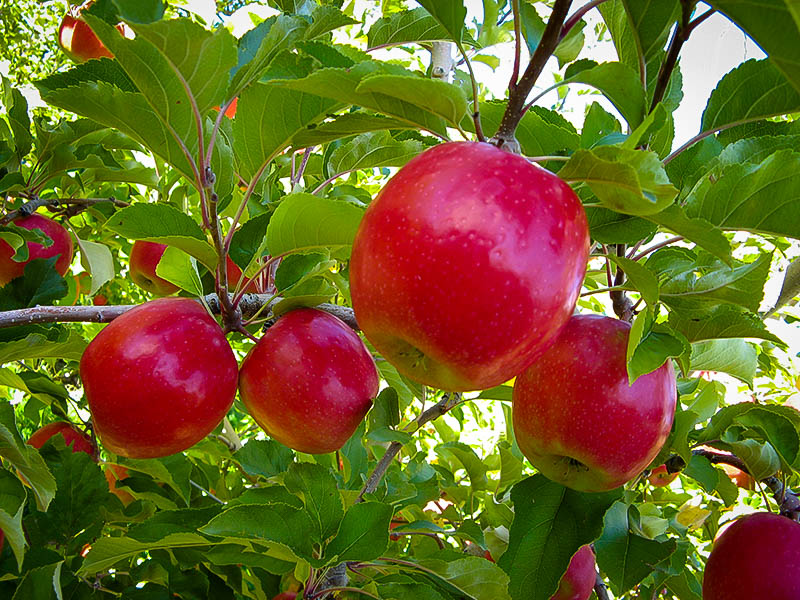apple: (347, 143, 591, 393), (81, 297, 239, 459), (238, 309, 380, 455)
obscured(0)_apple: (511, 314, 681, 493)
